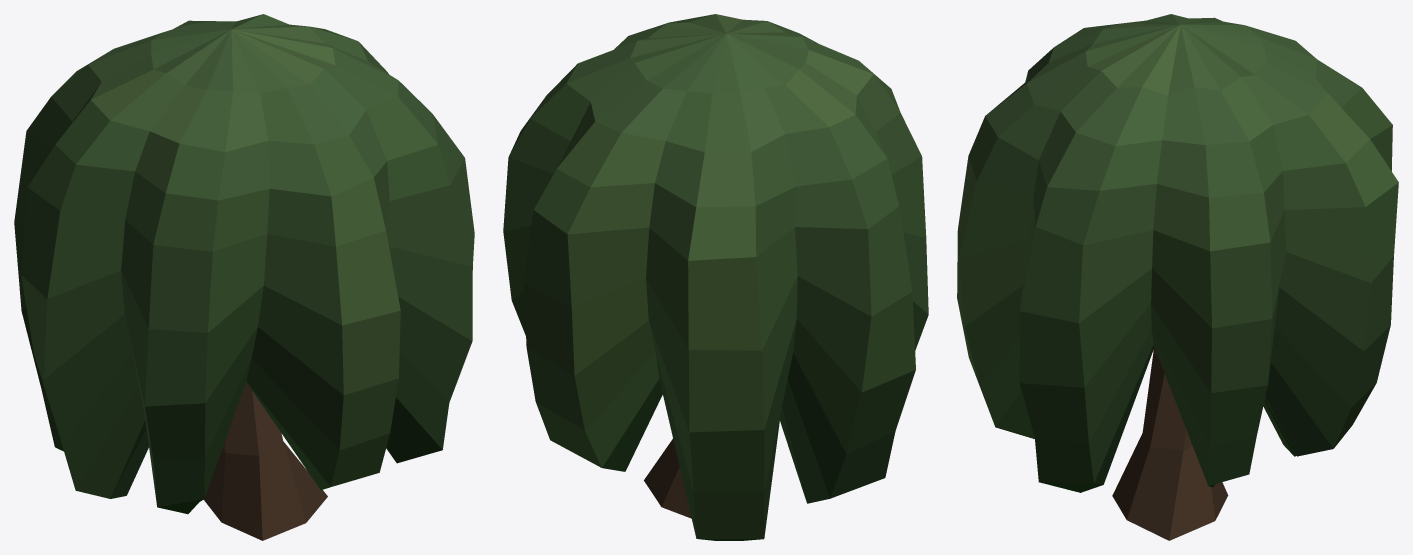
Rendered from Toon_Willow.glb.
3 views of the same model, side by side, from view 1: azimuth 30°, elevation 25°; view 2: azimuth 150°, elevation 25°; view 3: azimuth 270°, elevation 25° (orthographic). The views are drawn at different scales.
Parts seen in each view (by area): view 1: Toon_Willow; view 2: Toon_Willow; view 3: Toon_Willow.
Boxes of the visible parts, <box> form: Toon_Willow: <box>14,14,474,540</box>; Toon_Willow: <box>503,14,928,540</box>; Toon_Willow: <box>957,14,1398,540</box>.
Size of the model in its own units: 4.43 by 5.21 by 4.41.
